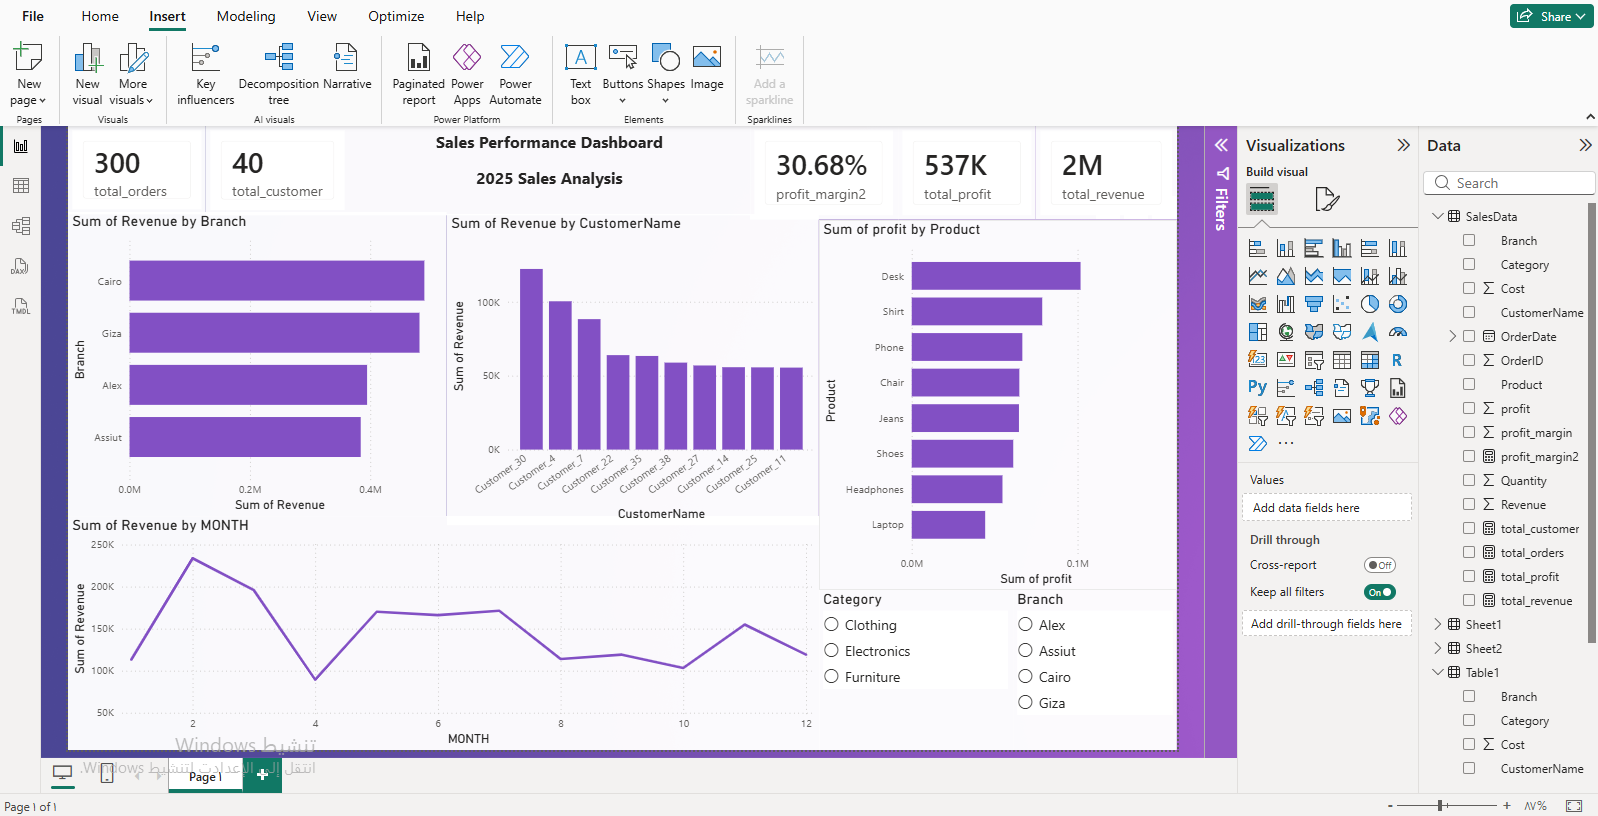

This screenshot's page, from the dashboard's own definition file:
{"tool":"powerbi","page":{"name":"Page ١","canvas":[1280,720],"ordinal":0},"visuals":[{"type":"barChart","fields":{"Category":["SalesData.Branch"],"Y":["Sum(SalesData.Revenue)"]},"box":[0,99.2,437.3,350.8],"z":0},{"type":"lineChart","fields":{"Category":["Table1.MONTH"],"Y":["Sum(Table1.Revenue)"]},"box":[0,450,866.5,270],"z":1000},{"type":"barChart","fields":{"Category":["SalesData.Product"],"Y":["Sum(SalesData.profit)"]},"box":[866.5,108.5,413.1,426.9],"z":2000},{"type":"columnChart","fields":{"Y":["Sum(SalesData.Revenue)"],"Category":["SalesData.CustomerName"]},"box":[437.3,101.5,429.2,358.8],"z":3000},{"type":"listSlicer","fields":{"Values":["SalesData.Branch"]},"box":[1090.4,535.4,189.2,184.6],"z":4000},{"type":"listSlicer","fields":{"Values":["SalesData.Category"]},"box":[866.5,535.4,223.8,184.6],"z":5000},{"type":"cardVisual","fields":{"Data":["SalesData.total_revenue"]},"box":[1116.9,0,162.7,108.5],"z":6000},{"type":"cardVisual","fields":{"Data":["SalesData.total_profit"]},"box":[957.7,0,159.2,108.5],"z":7000},{"type":"cardVisual","fields":{"Data":["SalesData.total_orders"]},"box":[0,0,159.2,101.5],"z":8000},{"type":"cardVisual","fields":{"Data":["SalesData.total_customer"]},"box":[159.2,0,165,102.7],"z":9000},{"type":"cardVisual","fields":{"Data":["SalesData.profit_margin2"]},"box":[786.9,0,170.8,108.5],"z":10000},{"type":"textbox","box":[324.2,0,462.7,102.7],"z":10001}]}

Visuals, with their boxes on the page's 1280x720 design canvas (x1, y1, x2, y2). These are canvas units, not pixel positions in the 1598x816 screenshot, which may show the page scaled, cropped or inside an application window:
barChart - SalesData.Branch x Sum(SalesData.Revenue): detection(0, 99, 437, 450)
lineChart - Table1.MONTH x Sum(Table1.Revenue): detection(0, 450, 866, 720)
barChart - SalesData.Product x Sum(SalesData.profit): detection(866, 108, 1280, 535)
columnChart - Sum(SalesData.Revenue) x SalesData.CustomerName: detection(437, 102, 866, 460)
listSlicer - SalesData.Branch: detection(1090, 535, 1280, 720)
listSlicer - SalesData.Category: detection(866, 535, 1090, 720)
cardVisual - SalesData.total_revenue: detection(1117, 0, 1280, 108)
cardVisual - SalesData.total_profit: detection(958, 0, 1117, 108)
cardVisual - SalesData.total_orders: detection(0, 0, 159, 102)
cardVisual - SalesData.total_customer: detection(159, 0, 324, 103)
cardVisual - SalesData.profit_margin2: detection(787, 0, 958, 108)
textbox: detection(324, 0, 787, 103)
